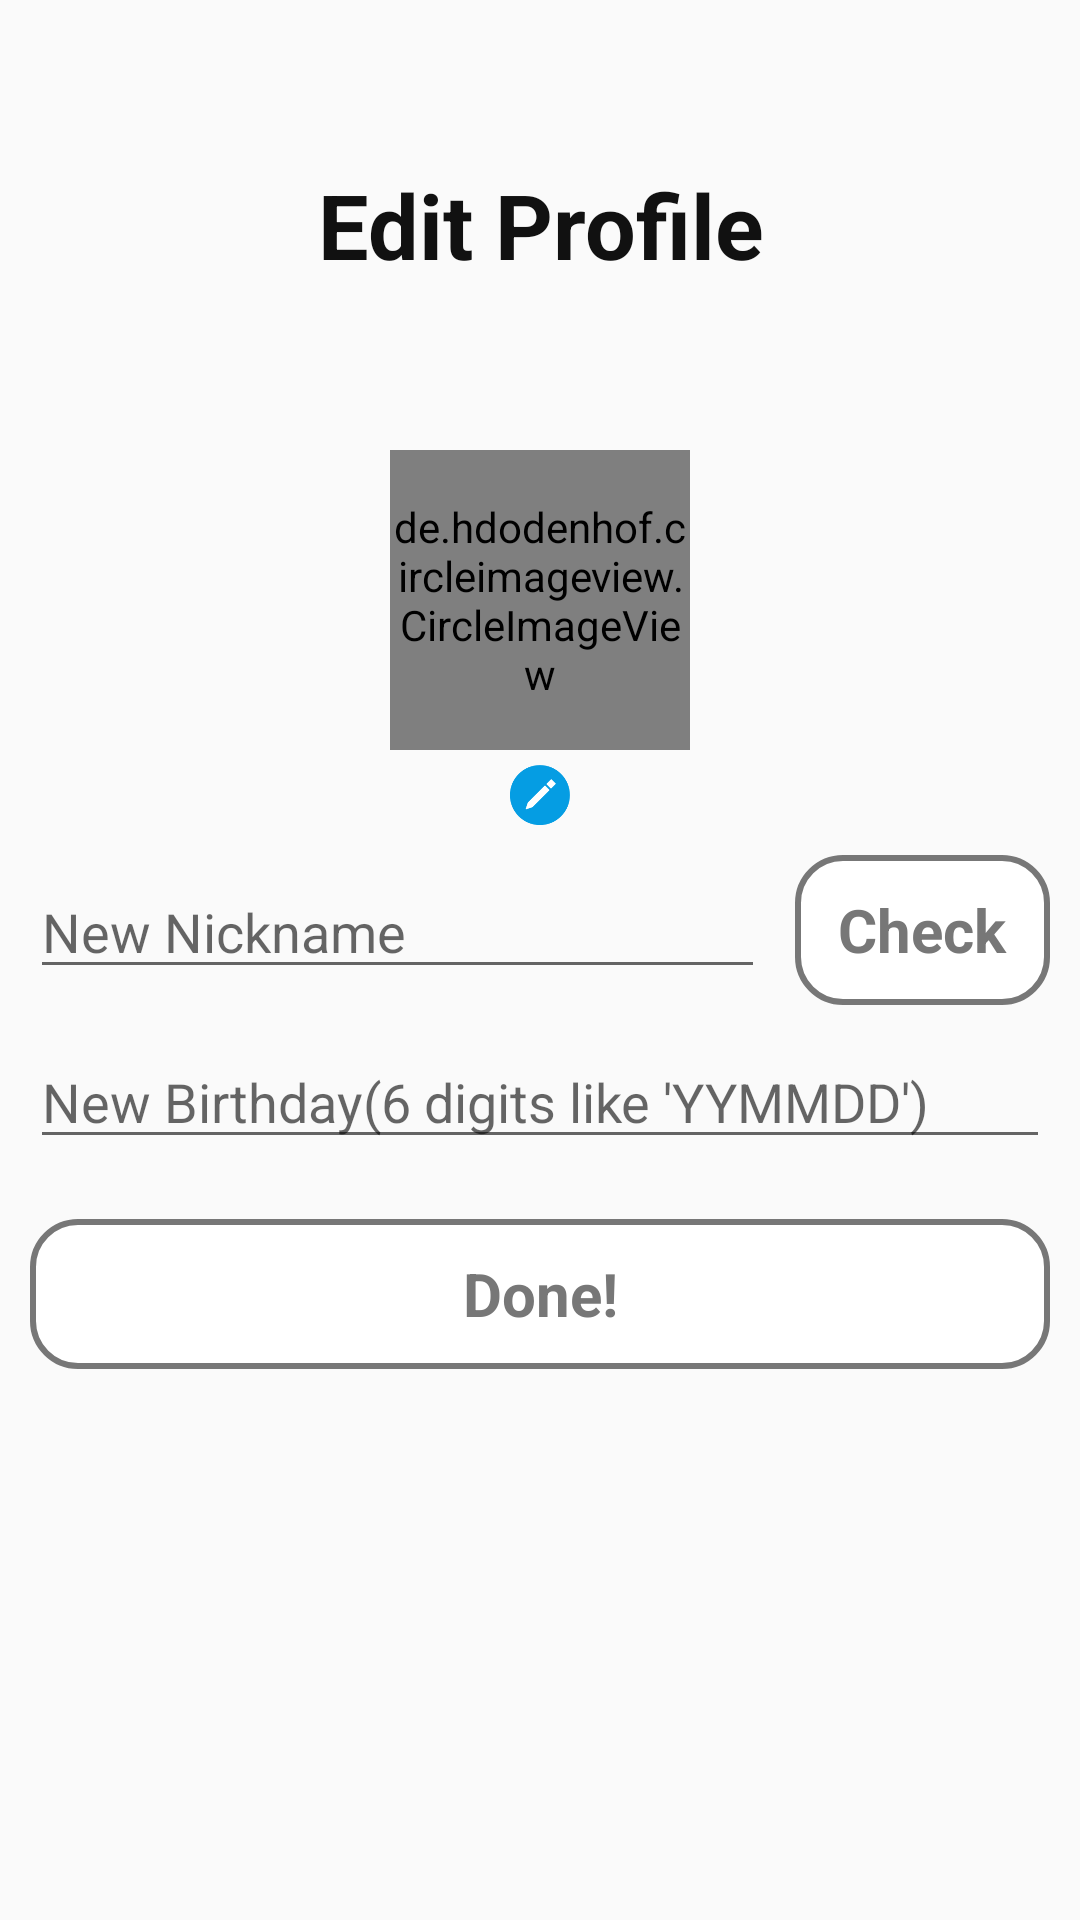

Point at icon controls on the screen. Image size 1080 × 1920, points as (x,y).
edit profile: (540,795)
